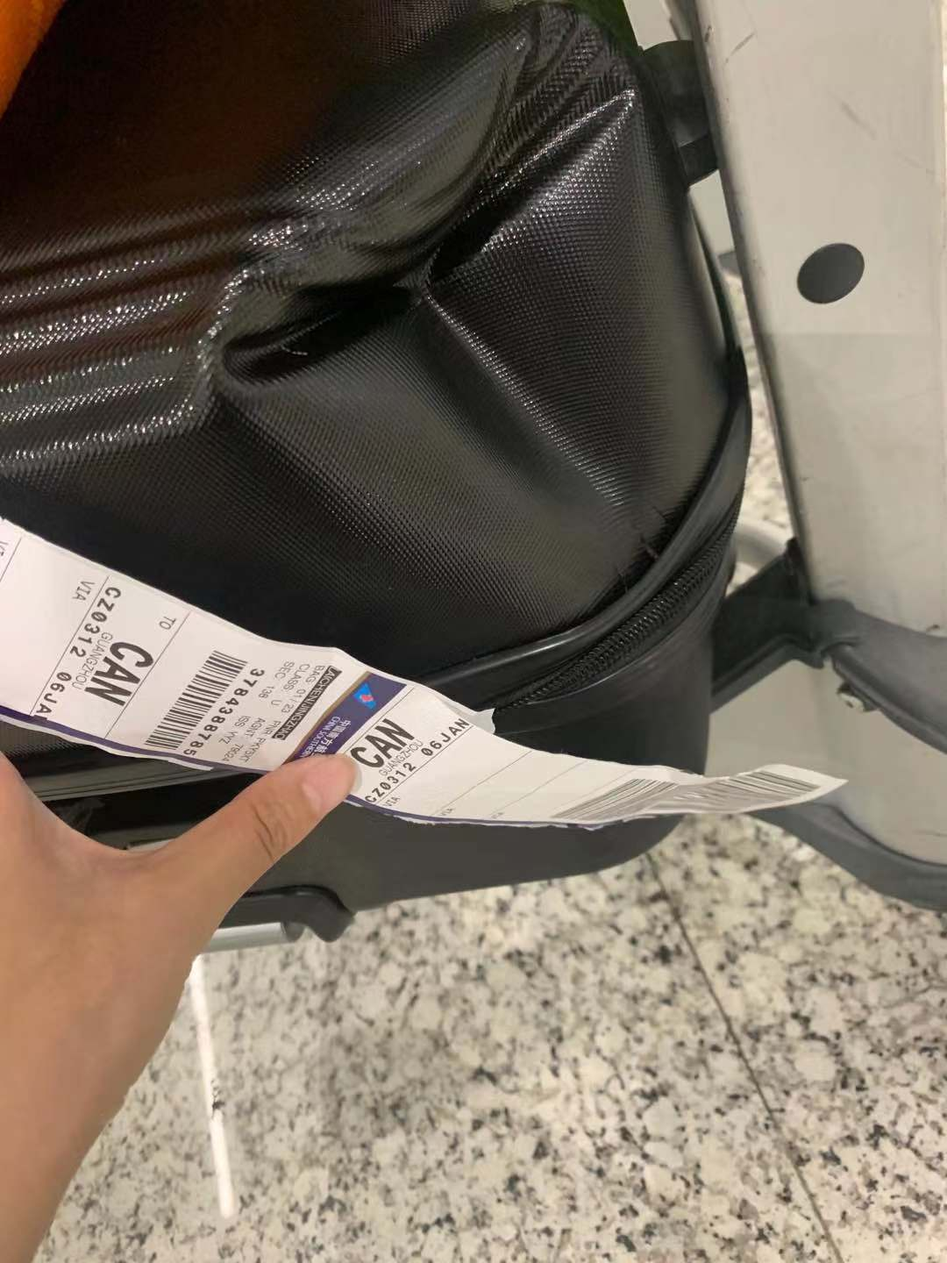hollow: (204, 1, 673, 619)
